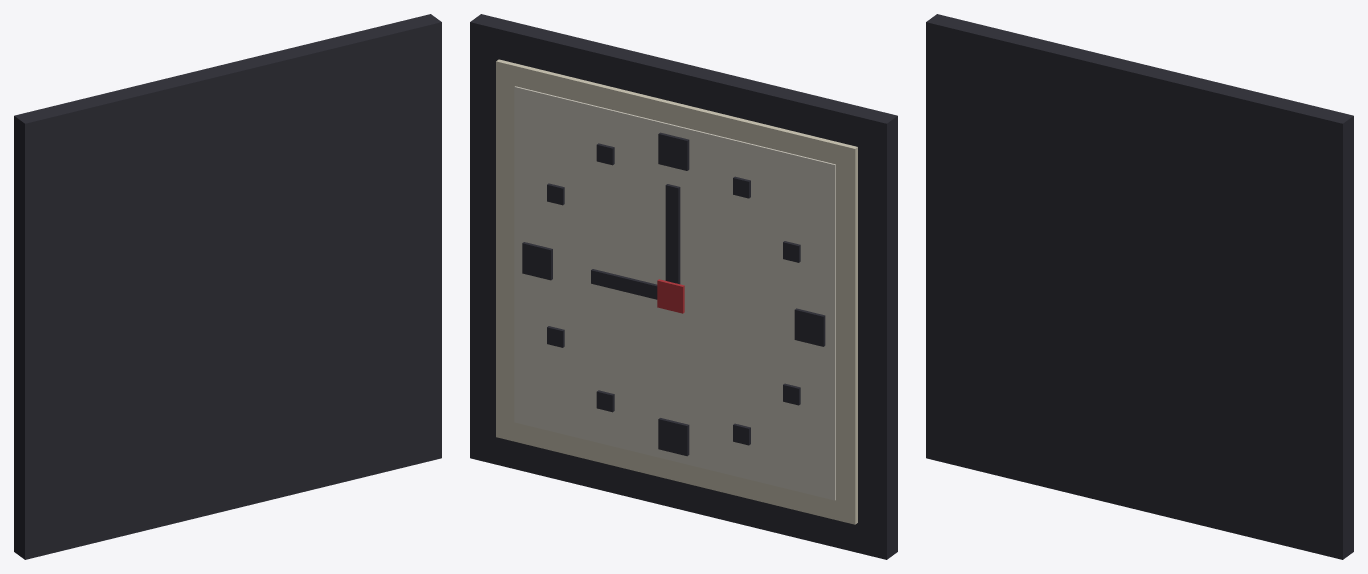
File: tt-clock-face.glb
3 renders of one model, left to right at view 1: azimuth 30°, elevation 25°; view 2: azimuth 150°, elevation 25°; view 3: azimuth 330°, elevation 25°, orthographic.
Visible parts, largest first — view 1: box-prop; view 2: box-prop; view 3: box-prop.
Part boxes in pixels (x1,y1,x2,y2): box-prop: [14, 14, 441, 559]; box-prop: [470, 14, 897, 559]; box-prop: [926, 14, 1353, 559].
Size of the model in its own units: 2.6 by 2.6 by 0.21.
